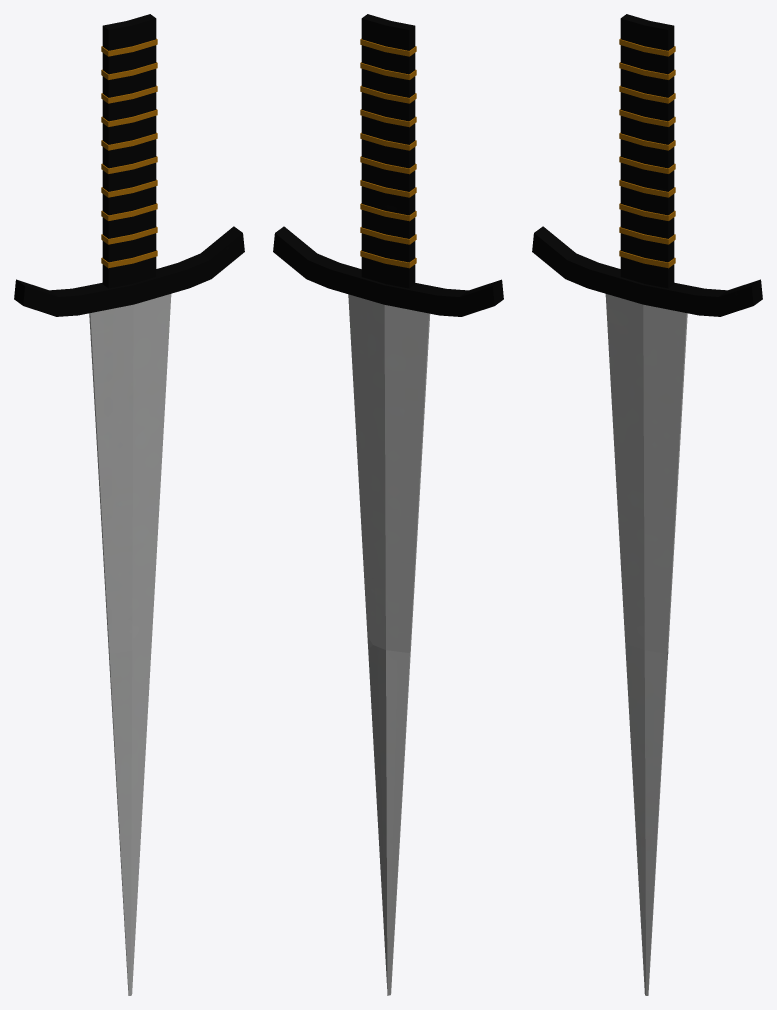
Rendered from Sword_2.fbx.
3 views of the same model, side by side, from view 1: azimuth 30°, elevation 25°; view 2: azimuth 150°, elevation 25°; view 3: azimuth 330°, elevation 25° (orthographic).
Parts seen in each view (by area): view 1: Sword 2; view 2: Sword 2; view 3: Sword 2.
Boxes of the visible parts, left/top/right/bottom form: Sword 2: left=14, top=14, right=244, bottom=995; Sword 2: left=273, top=14, right=503, bottom=995; Sword 2: left=532, top=14, right=762, bottom=995.
Bounding box in the file's own units: 23.38 × 98.05 × 1.67.
